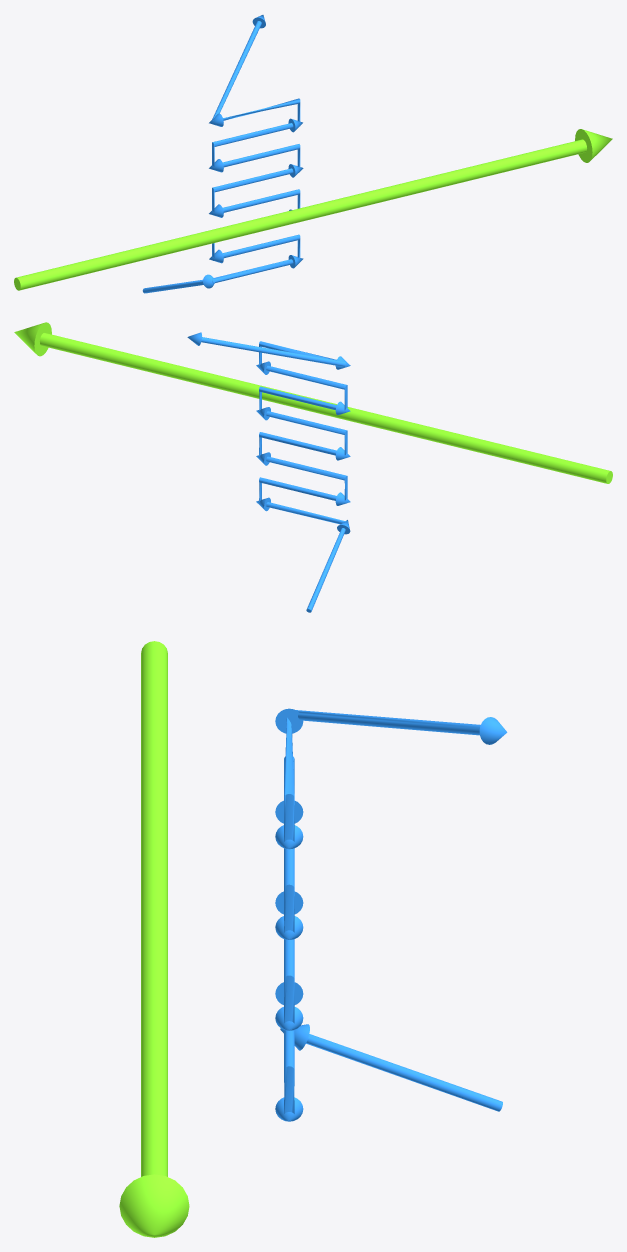
Rendered from cooling_coil_flow.glb.
3 views of the same model, one above another, from view 1: azimuth 30°, elevation 25°; view 2: azimuth 150°, elevation 25°; view 3: azimuth 270°, elevation 25° (orthographic). The views are drawn at different scales.
Visible parts, largest first — view 1: air, chilled_water; view 2: air, chilled_water; view 3: air, chilled_water.
Part boxes in pixels (left/top/right/bottom): air: left=14, top=129, right=612, bottom=290; chilled_water: left=142, top=15, right=303, bottom=293; air: left=14, top=322, right=612, bottom=483; chilled_water: left=187, top=332, right=350, bottom=612; air: left=119, top=641, right=189, bottom=1237; chilled_water: left=275, top=708, right=507, bottom=1121.
Size of the model in its own units: 3.06 by 1.23 by 0.8635.
